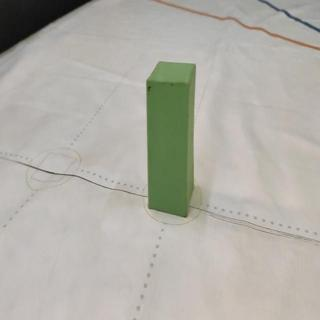greenbox: (147, 57, 198, 216)
